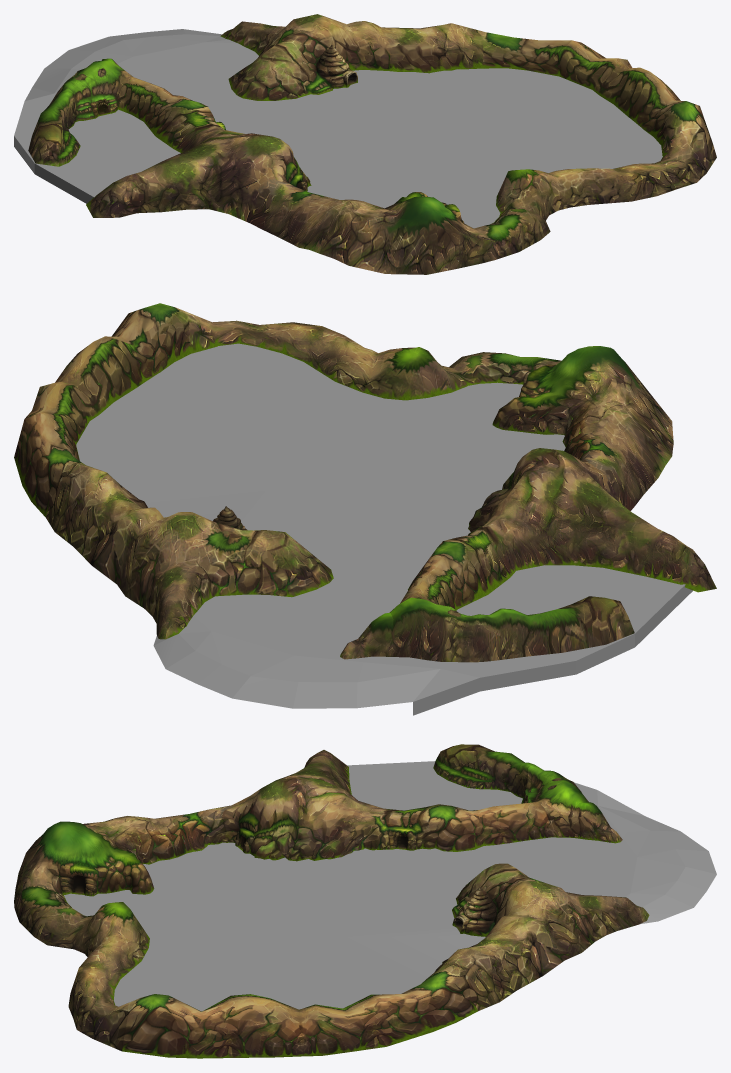
File: Vinoy_dimian01.FBX
3 renders of one model, top to bottom at view 1: azimuth 30°, elevation 25°; view 2: azimuth 150°, elevation 25°; view 3: azimuth 270°, elevation 25°, orthographic. The views are drawn at different scales.
Parts seen in each view (by area): view 1: dimian01, shan05, shan06, Object001, shan04, shan12, shan09, shan02, shan07, shan11, shan10, shan08 (+2 smaller); view 2: dimian01, Object001, shan04, shan11, shan02, shan09, shan06, shan05, shan07, shan12, shan01, shan10 (+3 smaller); view 3: dimian01, Object001, shan09, shan05, shan06, shan11, shan04, shan02, shan10, shan07, shan08, shan01 (+3 smaller).
Boxes of the visible parts, x1,y1,x2,y2 form: dimian01: [14, 68, 662, 228]; shan05: [209, 133, 371, 265]; shan06: [348, 192, 540, 274]; Object001: [25, 29, 258, 108]; shan04: [86, 107, 250, 217]; shan12: [228, 21, 357, 100]; shan09: [559, 40, 712, 145]; shan02: [53, 60, 207, 142]; shan07: [495, 168, 631, 239]; shan11: [275, 14, 450, 73]; shan10: [445, 23, 571, 76]; shan08: [613, 122, 716, 201]; dimian01: [76, 343, 692, 715]; Object001: [153, 574, 479, 708]; shan04: [444, 460, 716, 592]; shan11: [55, 468, 206, 608]; shan02: [389, 541, 506, 662]; shan09: [25, 303, 190, 444]; shan06: [484, 346, 673, 442]; shan05: [481, 397, 673, 510]; shan07: [303, 326, 495, 400]; shan12: [195, 506, 333, 597]; shan01: [496, 596, 634, 660]; shan10: [14, 412, 104, 531]; dimian01: [64, 761, 598, 1011]; Object001: [475, 790, 716, 924]; shan09: [122, 994, 386, 1058]; shan05: [105, 776, 322, 864]; shan06: [14, 821, 154, 936]; shan11: [442, 881, 594, 1001]; shan04: [284, 750, 429, 860]; shan02: [423, 764, 588, 851]; shan10: [371, 949, 499, 1046]; shan07: [34, 902, 149, 979]; shan08: [68, 964, 139, 1051]; shan01: [433, 744, 533, 798].
Bounding box in the file's own units: 1703 × 215 × 1756.
